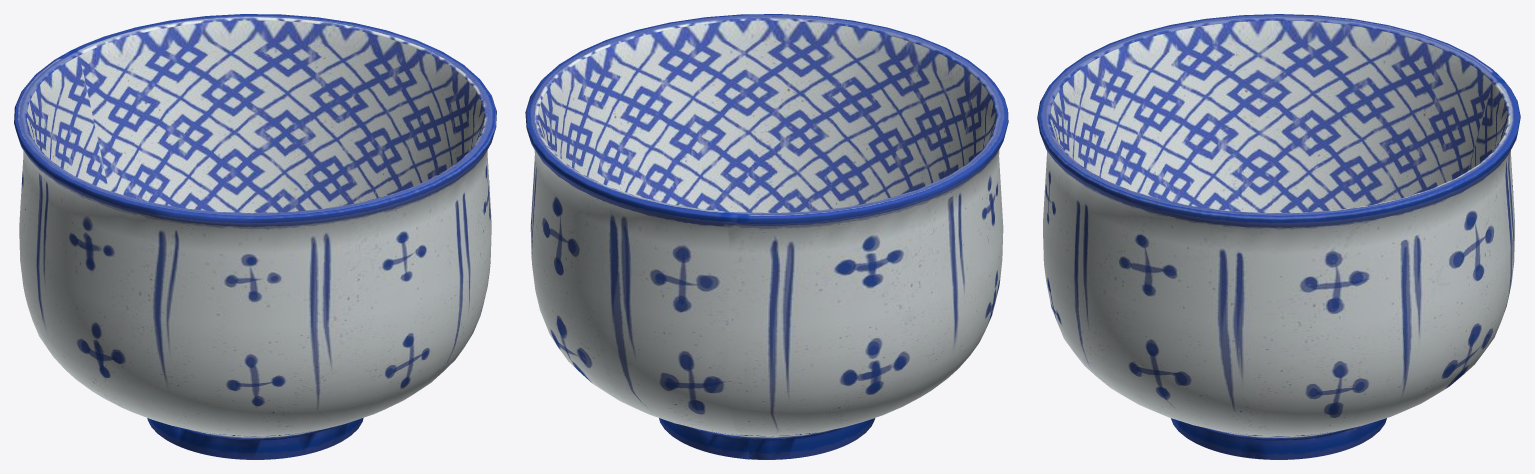
File: cup_japanese.glb
The picture shows the model from 3 angles, left to right: view 1: azimuth 30°, elevation 25°; view 2: azimuth 150°, elevation 25°; view 3: azimuth 270°, elevation 25°; orthographic projection.
Parts seen in each view (by area): view 1: Komogai_nari_GEO_KomogaNari_texture_0; view 2: Komogai_nari_GEO_KomogaNari_texture_0; view 3: Komogai_nari_GEO_KomogaNari_texture_0.
Boxes of the visible parts, bbox=[...] form: Komogai_nari_GEO_KomogaNari_texture_0: bbox=[14, 14, 496, 459]; Komogai_nari_GEO_KomogaNari_texture_0: bbox=[525, 14, 1008, 459]; Komogai_nari_GEO_KomogaNari_texture_0: bbox=[1037, 14, 1520, 459].
Size of the model in its own units: 0.0287 by 0.0196 by 0.0287.
Materials: 1 (1 with a texture image).
